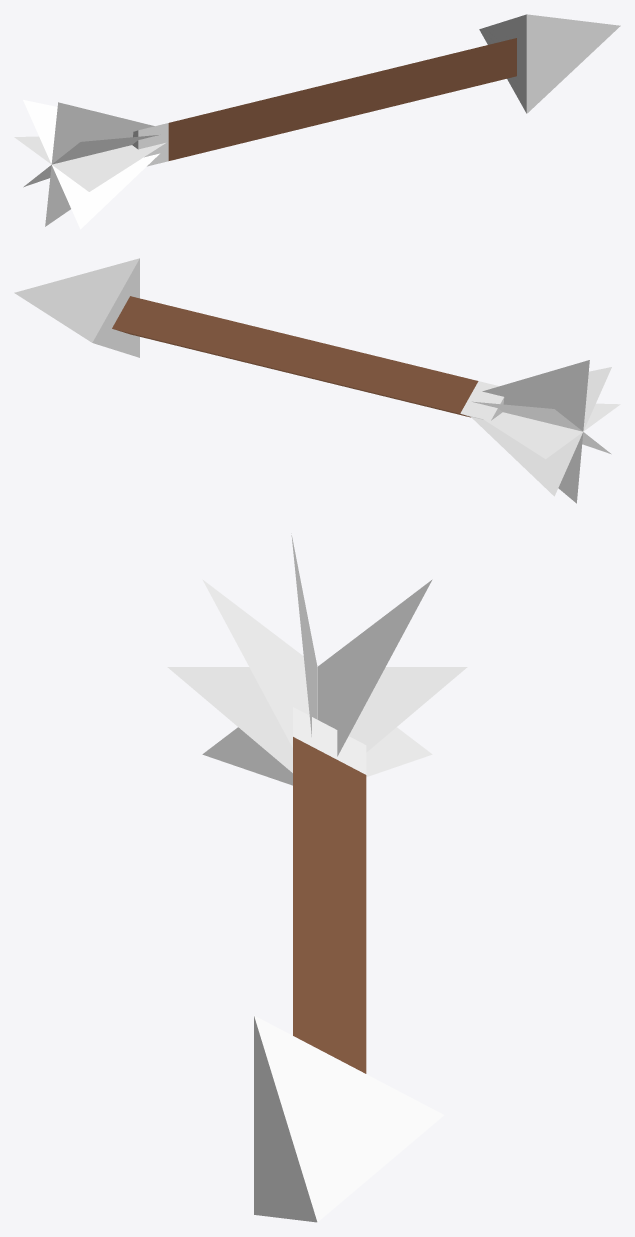
The model's file is arrow.glb.
The picture shows the model from 3 angles, top to bottom: view 1: azimuth 30°, elevation 25°; view 2: azimuth 150°, elevation 25°; view 3: azimuth 270°, elevation 25°; orthographic projection. The views are drawn at different scales.
Visible parts, largest first — view 1: Cylinder; view 2: Cylinder; view 3: Cylinder.
Boxes of the visible parts, x1,y1,x2,y2 form: Cylinder: (14, 14, 620, 229); Cylinder: (14, 258, 620, 503); Cylinder: (167, 533, 467, 1222).
Bounding box in the file's own units: 1.35 × 0.3033 × 0.308.
